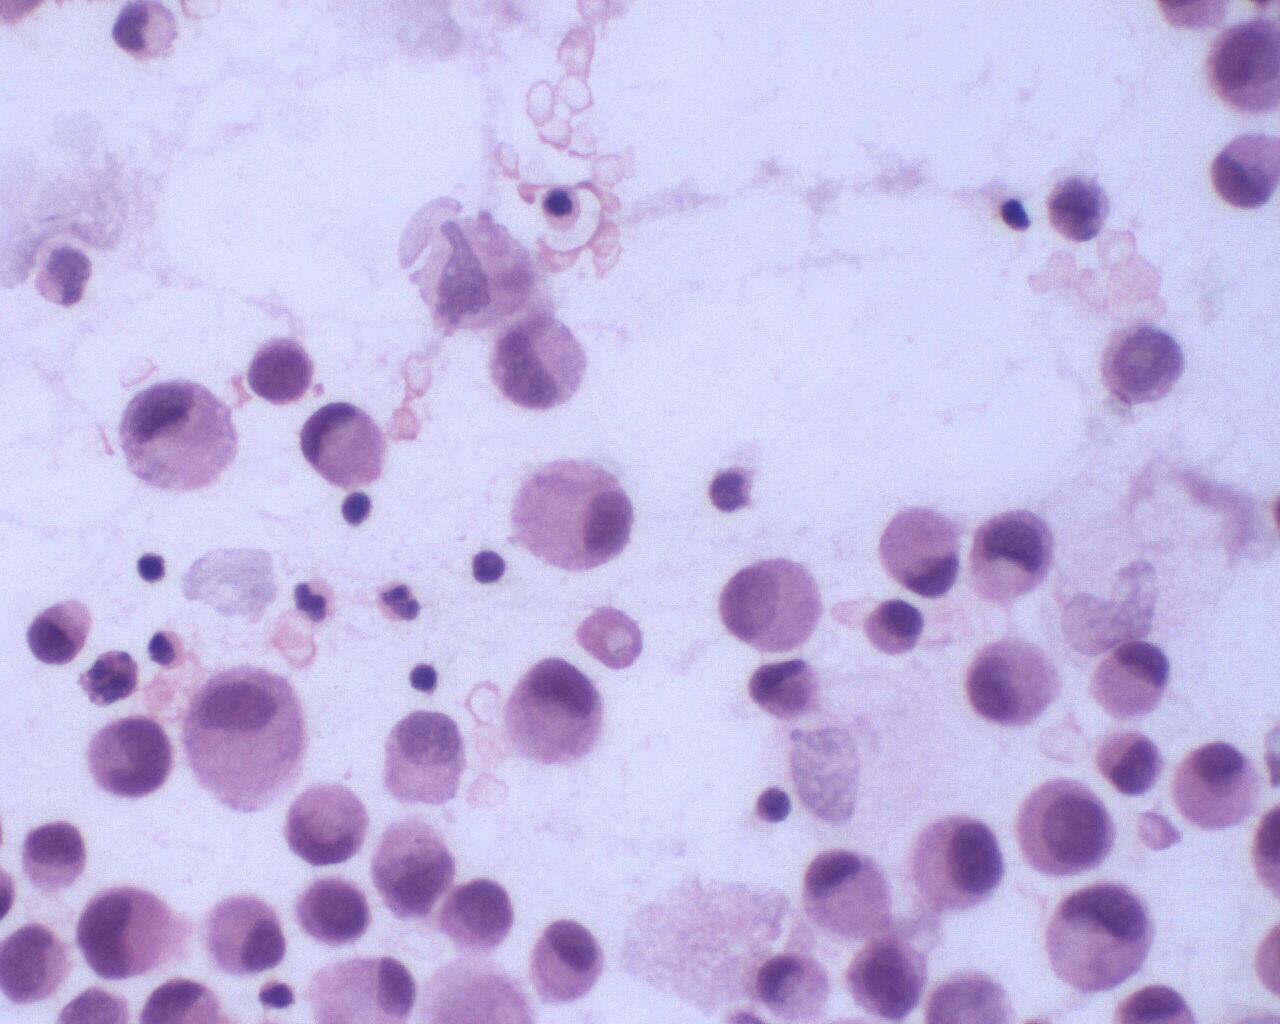ab: (1011, 772, 1117, 879), (83, 715, 177, 802), (1102, 315, 1188, 408), (844, 931, 931, 1022), (290, 868, 371, 949), (441, 877, 518, 959), (1, 923, 75, 1006), (246, 331, 318, 409), (1093, 726, 1165, 800)
histo: (798, 840, 901, 942), (301, 397, 397, 482)
lymph: (751, 783, 798, 829), (335, 487, 375, 529), (129, 549, 170, 587), (405, 657, 444, 697)
meso: (183, 665, 310, 819), (506, 451, 639, 579), (115, 373, 238, 498), (502, 655, 606, 771), (911, 807, 1010, 920), (963, 632, 1066, 732), (1168, 739, 1265, 836)
neutro: (368, 571, 425, 629), (288, 571, 341, 626)
